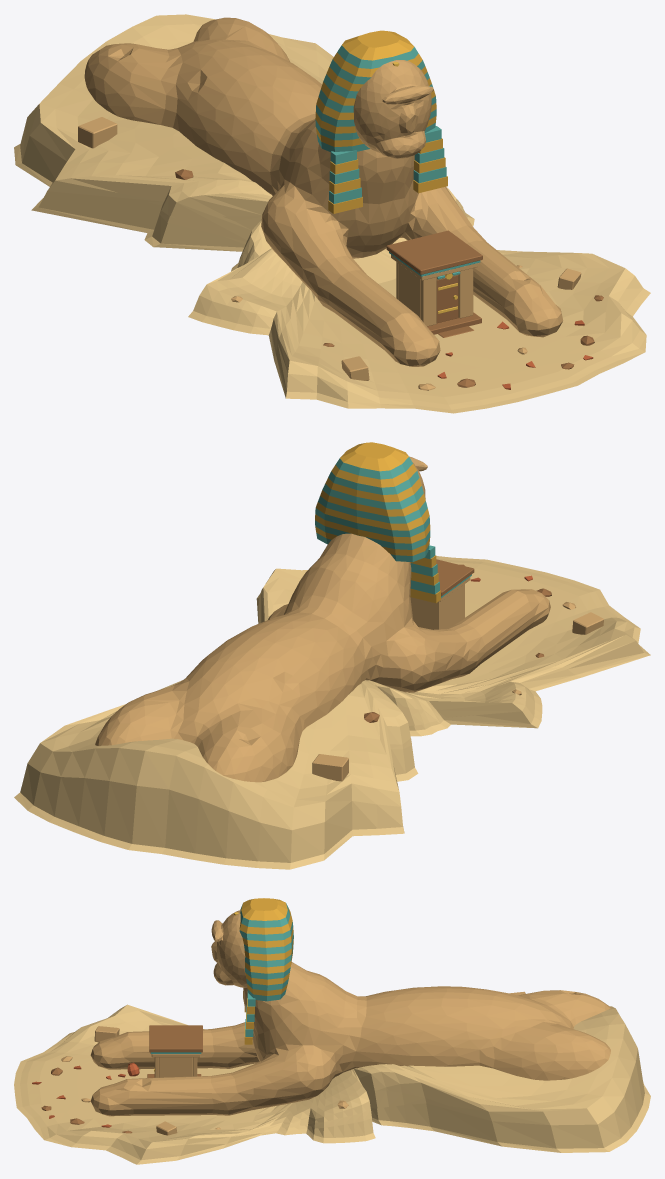
File: great-sandstone-sphinx.glb
The picture shows the model from 3 angles, top to bottom: view 1: azimuth 30°, elevation 25°; view 2: azimuth 150°, elevation 25°; view 3: azimuth 270°, elevation 25°; orthographic projection. The views are drawn at different scales.
Parts seen in each view (by area): view 1: Sand_Dunes, Sphinx_Body, Sphinx_Headdress, Sphinx_Face, Sphinx_Lappets, Shrine_Cornice, Door, FallenBlock_2, Shrine_WallSide_L, Shrine_Pier_L, Shrine_Pier_R; view 2: Sand_Dunes, Sphinx_Body, Sphinx_Headdress, Sphinx_Lappets, Shrine_WallBack, FallenBlock_2, Shrine_Cornice, Shrine_WallSide_L; view 3: Sand_Dunes, Sphinx_Body, Sphinx_Headdress, Sphinx_Face, Shrine_Cornice, Shrine_WallSide_R, Sphinx_Lappets.
Part boxes in pixels (x1,y1,x2,y2): Sand_Dunes: (14,14,650,413); Sphinx_Body: (84,17,563,366); Sphinx_Headdress: (315,30,436,151); Sphinx_Face: (353,60,433,158); Sphinx_Lappets: (328,126,447,213); Shrine_Cornice: (386,230,482,274); Door: (436,275,458,323); FallenBlock_2: (78,117,117,148); Shrine_WallSide_L: (399,264,420,318); Shrine_Pier_L: (420,277,436,326); Shrine_Pier_R: (458,268,473,318); Sand_Dunes: (14,556,650,869); Sphinx_Body: (95,533,550,782); Sphinx_Headdress: (315,442,430,562); Sphinx_Lappets: (410,545,440,603); Shrine_WallBack: (410,597,441,629); FallenBlock_2: (312,754,348,781); Shrine_Cornice: (436,559,474,596); Shrine_WallSide_L: (441,586,462,629); Sand_Dunes: (14,1004,650,1164); Sphinx_Body: (90,962,610,1116); Sphinx_Headdress: (239,898,293,1001); Sphinx_Face: (211,910,247,987); Shrine_Cornice: (149,1025,202,1052); Shrine_WallSide_R: (159,1057,192,1077); Sphinx_Lappets: (244,991,255,1044).
Size of the model in its own units: 68.49 by 41.2 by 127.
